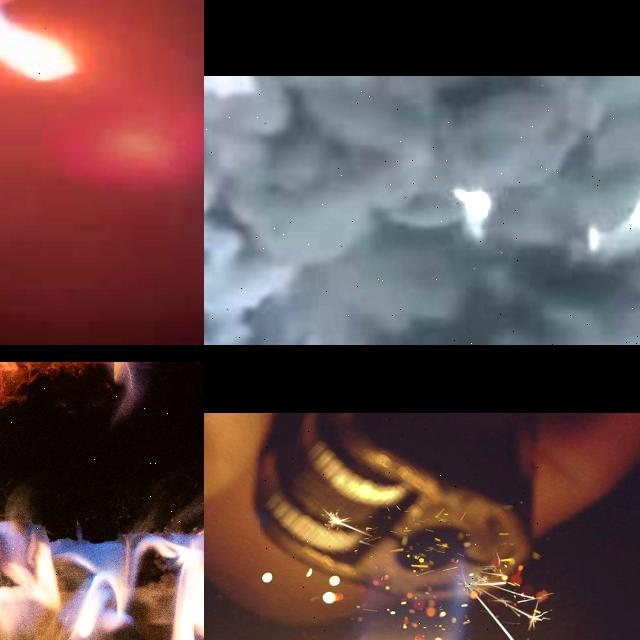fire: (261, 415, 542, 640), (0, 361, 204, 540), (0, 0, 77, 78)
smoke: (204, 76, 640, 345)
